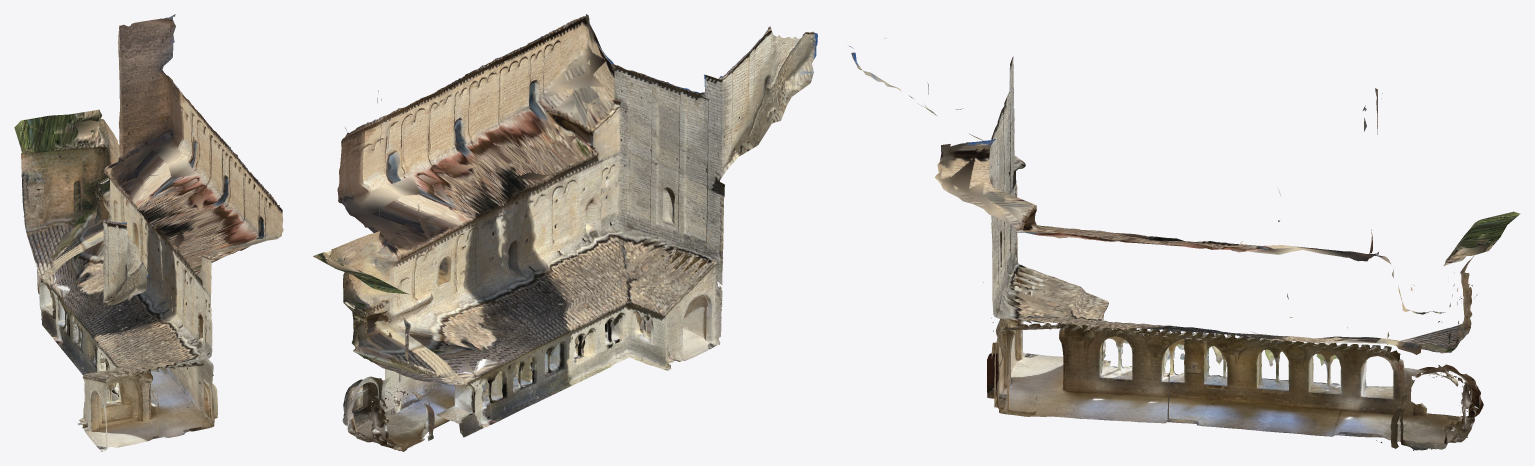
The model's file is medium.glb.
3 views of the same model, side by side, from view 1: azimuth 30°, elevation 25°; view 2: azimuth 150°, elevation 25°; view 3: azimuth 270°, elevation 25° (orthographic). The views are drawn at different scales.
Parts seen in each view (by area): view 1: medium.013; view 2: medium.013; view 3: medium.013.
Boxes of the visible parts, box(x1,y1,x2,y2) form: medium.013: box(14, 14, 283, 451); medium.013: box(313, 14, 817, 451); medium.013: box(849, 37, 1520, 450).
Bounding box in the file's own units: 15.24 × 18.03 × 29.25.
Materials: 1 (1 with a texture image).
